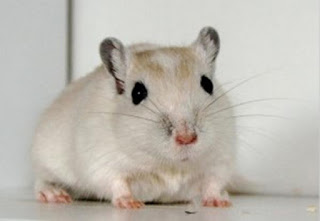mouse: (22, 18, 240, 215)
